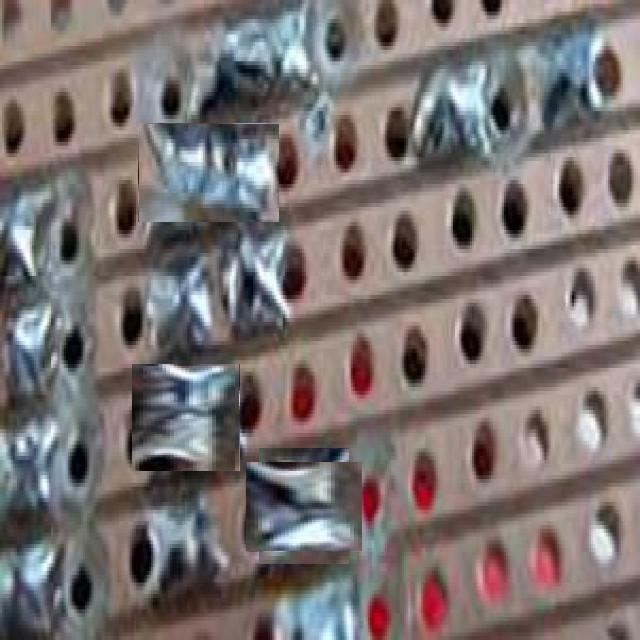Short_circuit: (138, 123, 279, 222), (132, 364, 240, 471), (253, 455, 355, 557)
